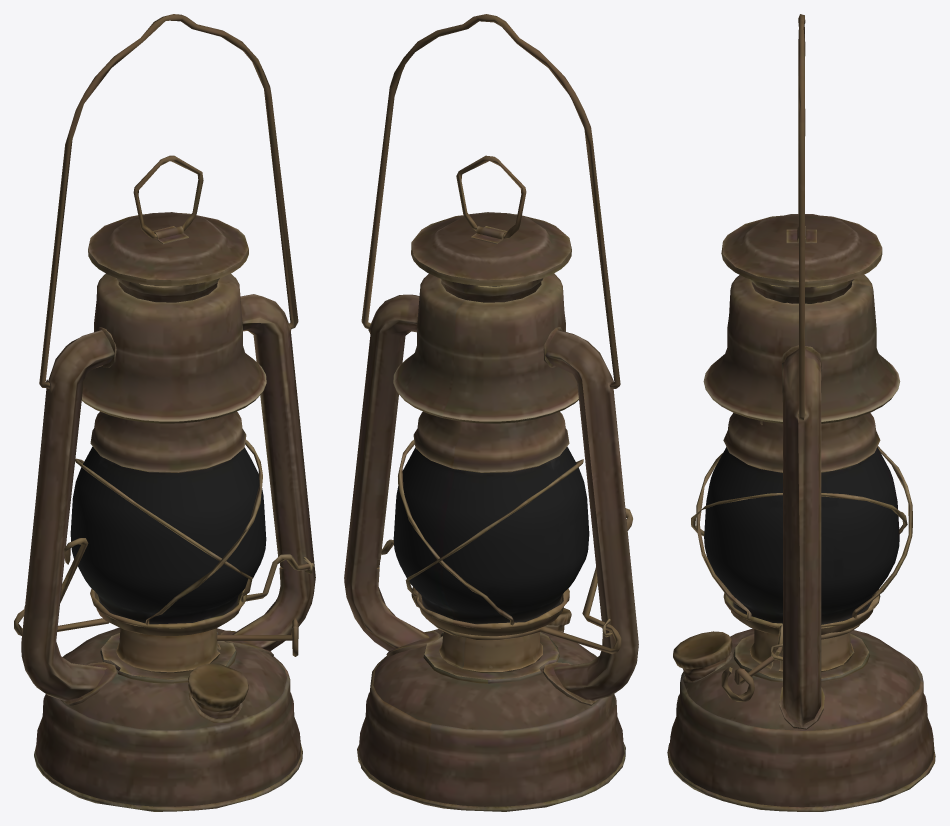
File: Lantern_01.glb
The picture shows the model from 3 angles, left to right: view 1: azimuth 30°, elevation 25°; view 2: azimuth 150°, elevation 25°; view 3: azimuth 270°, elevation 25°; orthographic projection.
Parts seen in each view (by area): view 1: Lantern_01, Lantern_01_glass; view 2: Lantern_01, Lantern_01_glass; view 3: Lantern_01, Lantern_01_glass.
Boxes of the visible parts, x1,y1,x2,y2 form: Lantern_01: (14, 14, 315, 811); Lantern_01_glass: (70, 446, 266, 624); Lantern_01: (344, 14, 638, 811); Lantern_01_glass: (393, 446, 589, 623); Lantern_01: (667, 14, 935, 811); Lantern_01_glass: (704, 447, 899, 624).
Bounding box in the file's own units: 0.1219 × 0.2939 × 0.0967.
2 materials, 2 textured.
